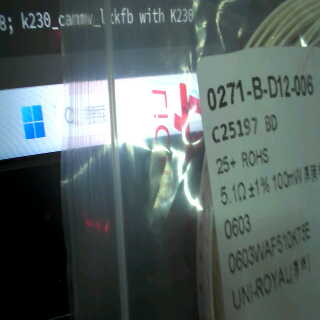5.1R: (216, 177, 248, 211)
